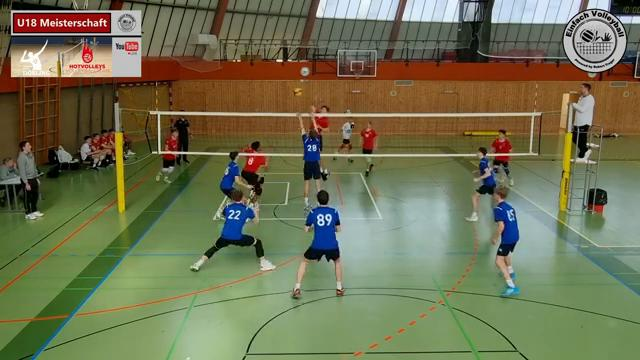attacco: (306, 104, 337, 148)
muro: (296, 106, 327, 212)
